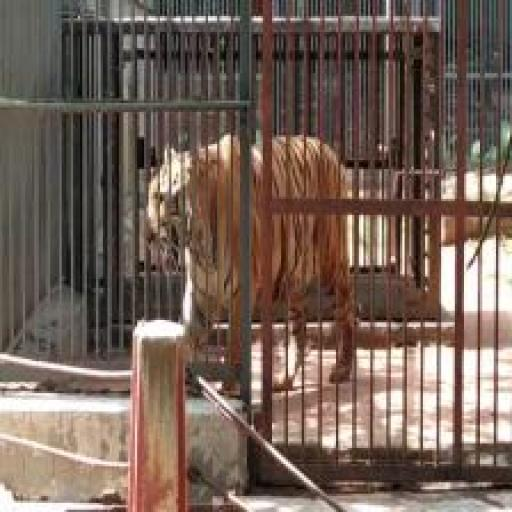Tiger: (121, 103, 378, 458)
